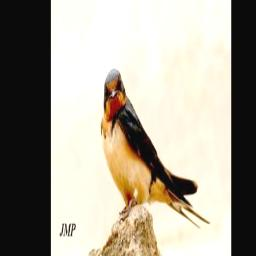Swallow: (99, 66, 210, 239)
